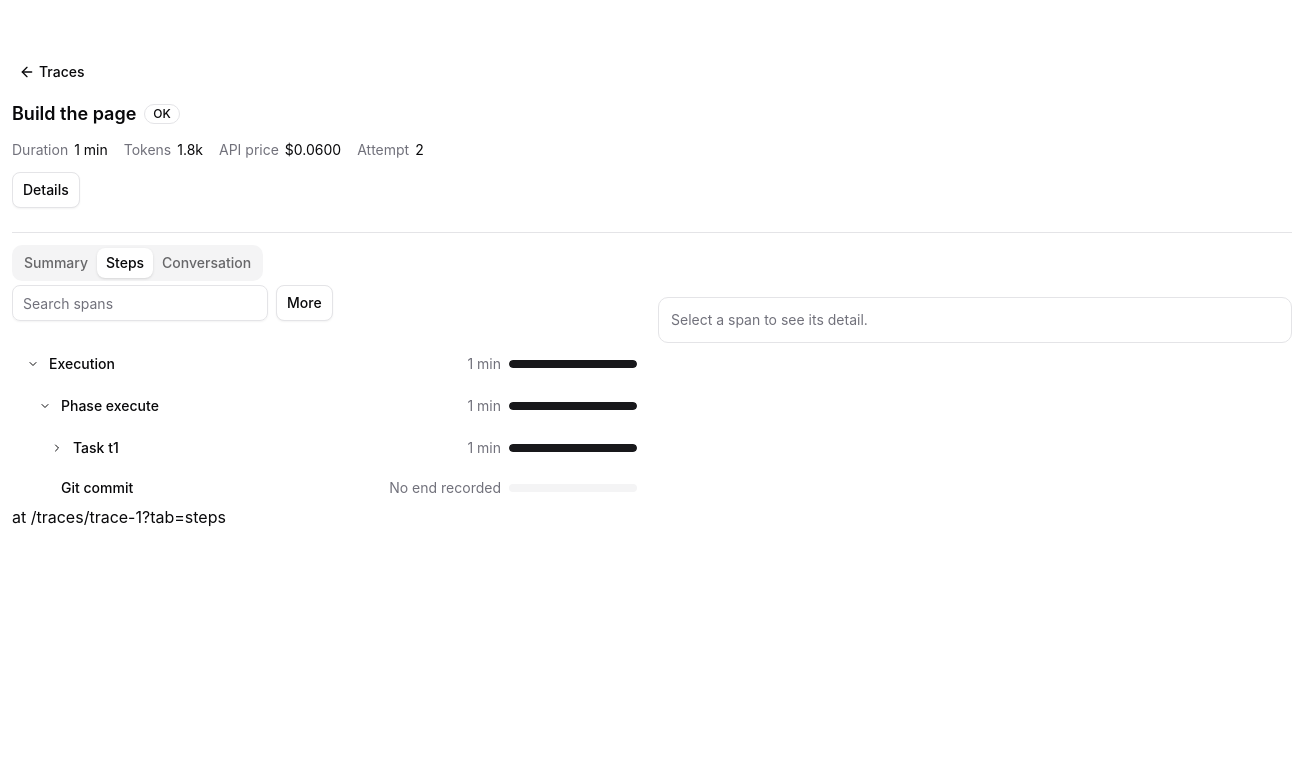
it: TraceScreen timeline › shows a muted recovered text on a recovered error
Expected: the element named "Spans" is shown, [12,345,646,505]
Step 1. Click the button "More" → coordinates (304, 303), box [276,285,333,321]
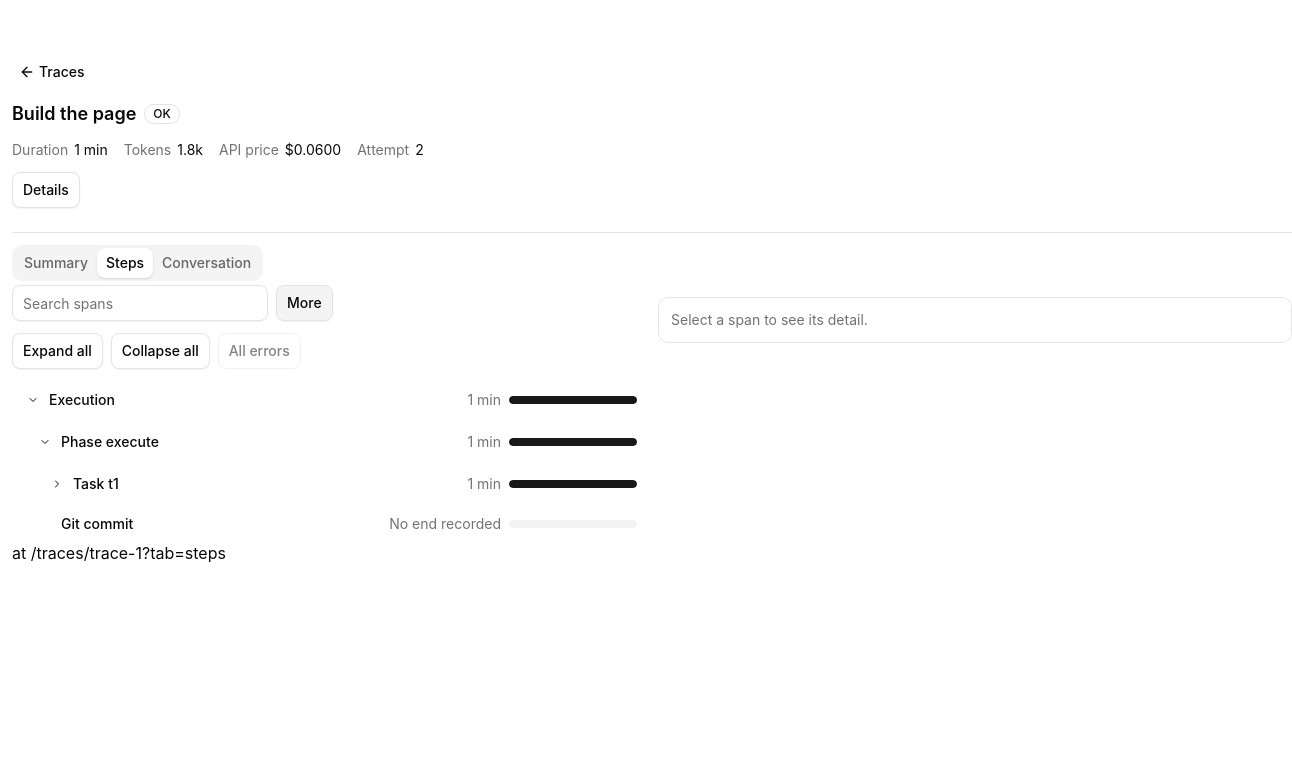
Step 2. Click the button "Expand all" → coordinates (57, 351), box [12,333,103,369]
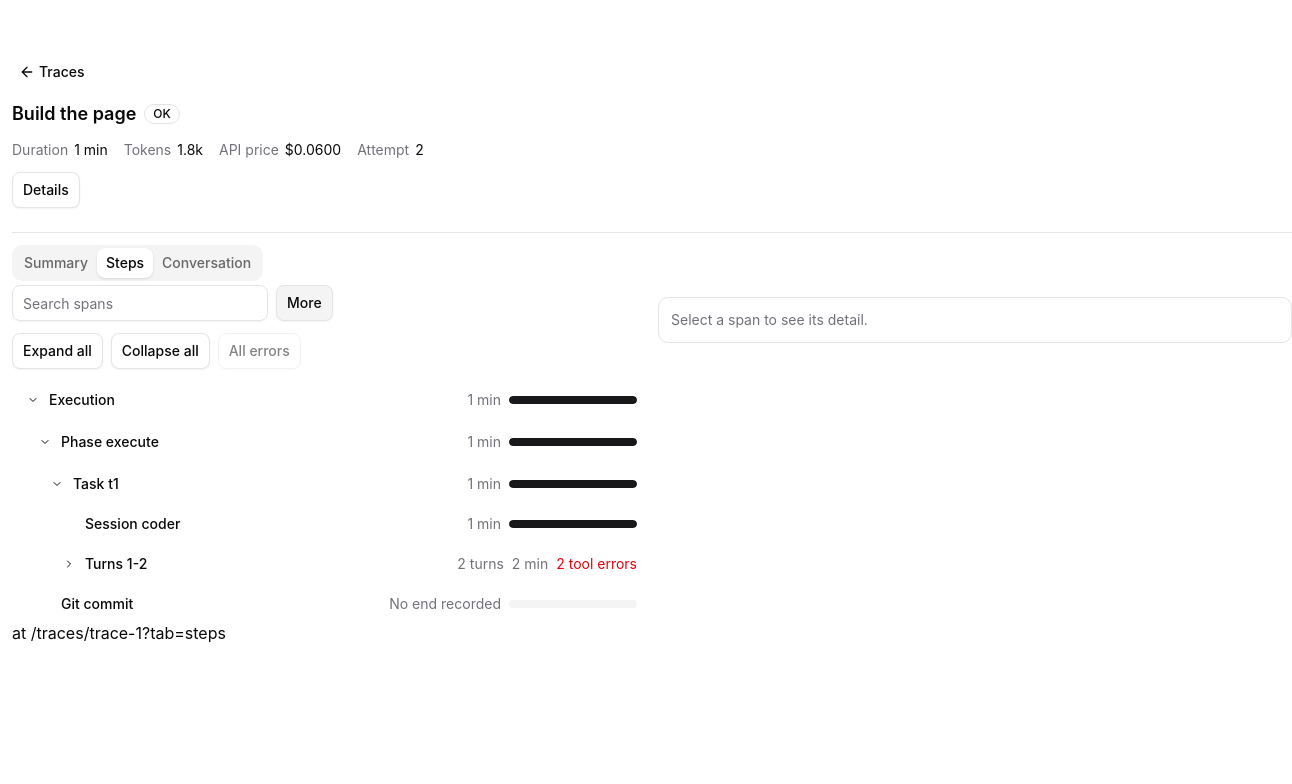
Step 3. Click the button named "Expand Turns 1-2" → coordinates (69, 564), box [57,552,81,576]
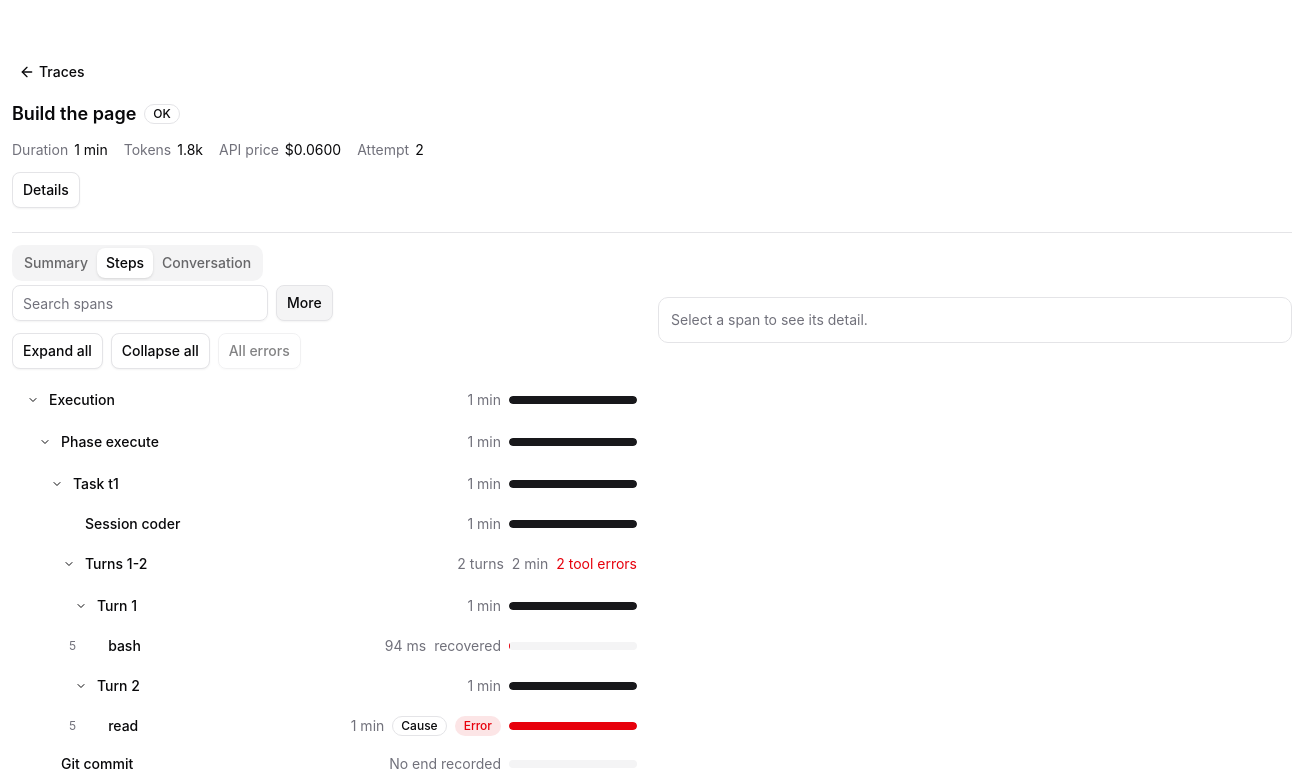
Result: the text "recovered" is shown at [434,636,501,656]
Result: the icon "Error" is shown at [455,716,501,736]
